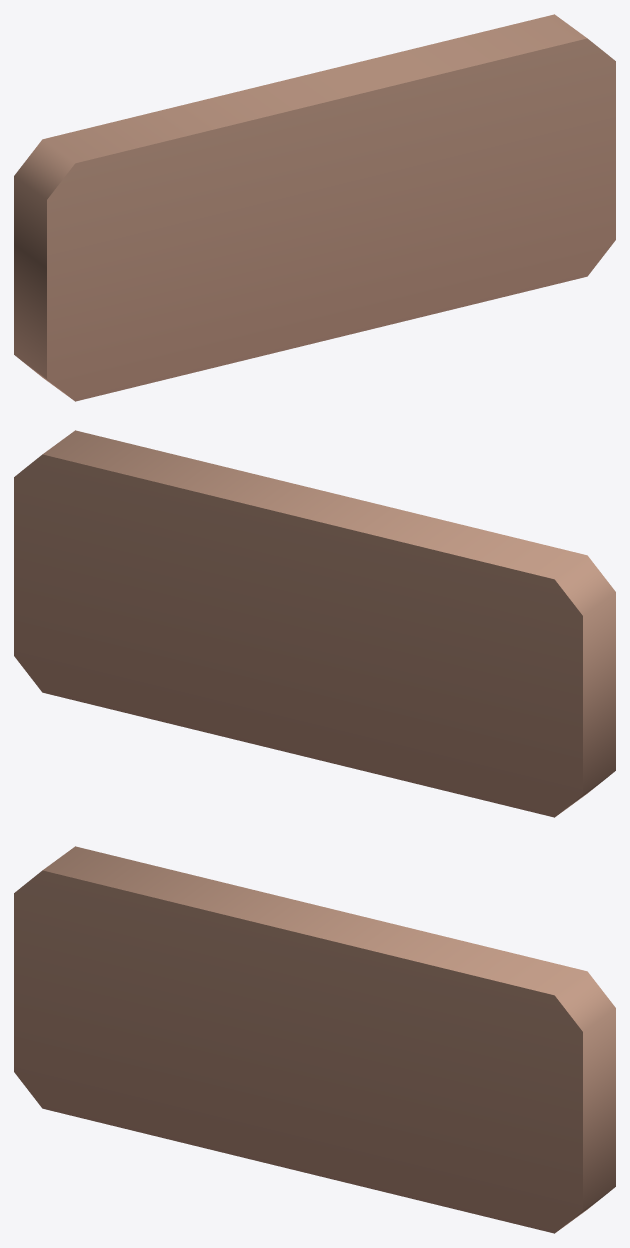
Rendered from plank-small-c.glb.
3 views of the same model, one above another, from view 1: azimuth 30°, elevation 25°; view 2: azimuth 150°, elevation 25°; view 3: azimuth 330°, elevation 25° (orthographic).
Parts seen in each view (by area): view 1: plank-small-c; view 2: plank-small-c; view 3: plank-small-c.
Part boxes in pixels (bbox=[...]): plank-small-c: bbox=[14, 14, 615, 401]; plank-small-c: bbox=[14, 430, 615, 817]; plank-small-c: bbox=[14, 846, 615, 1233].
Size of the model in its own units: 0.5 by 0.2 by 0.05.
